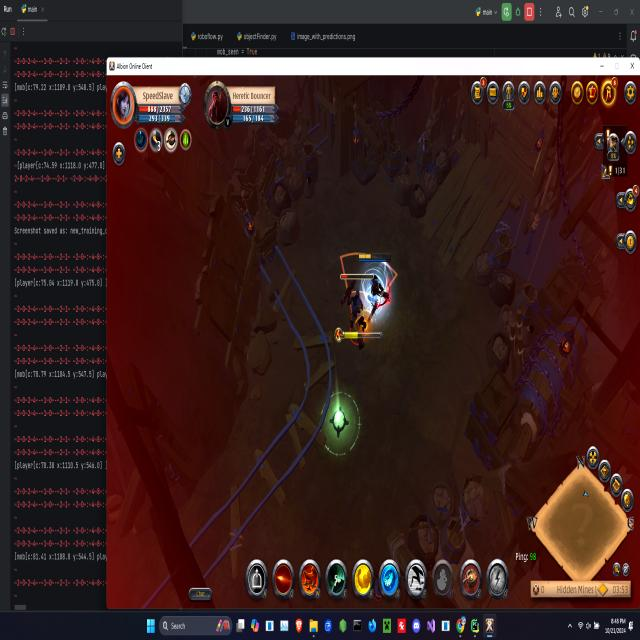ore: (338, 268, 376, 344)
red: (358, 248, 394, 324)
silver: (340, 248, 401, 338)
